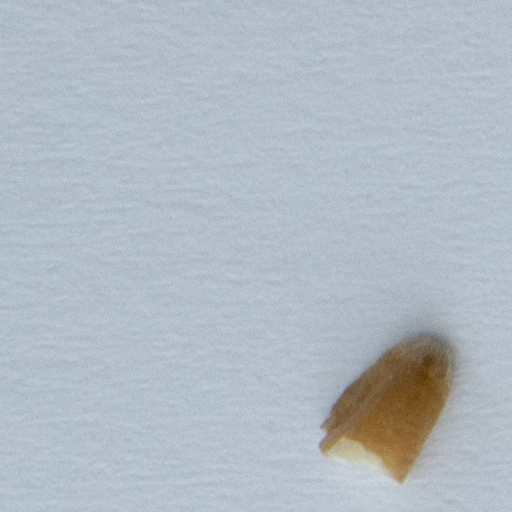Wheat-grain-damaged-poly: (316, 336, 457, 485)
